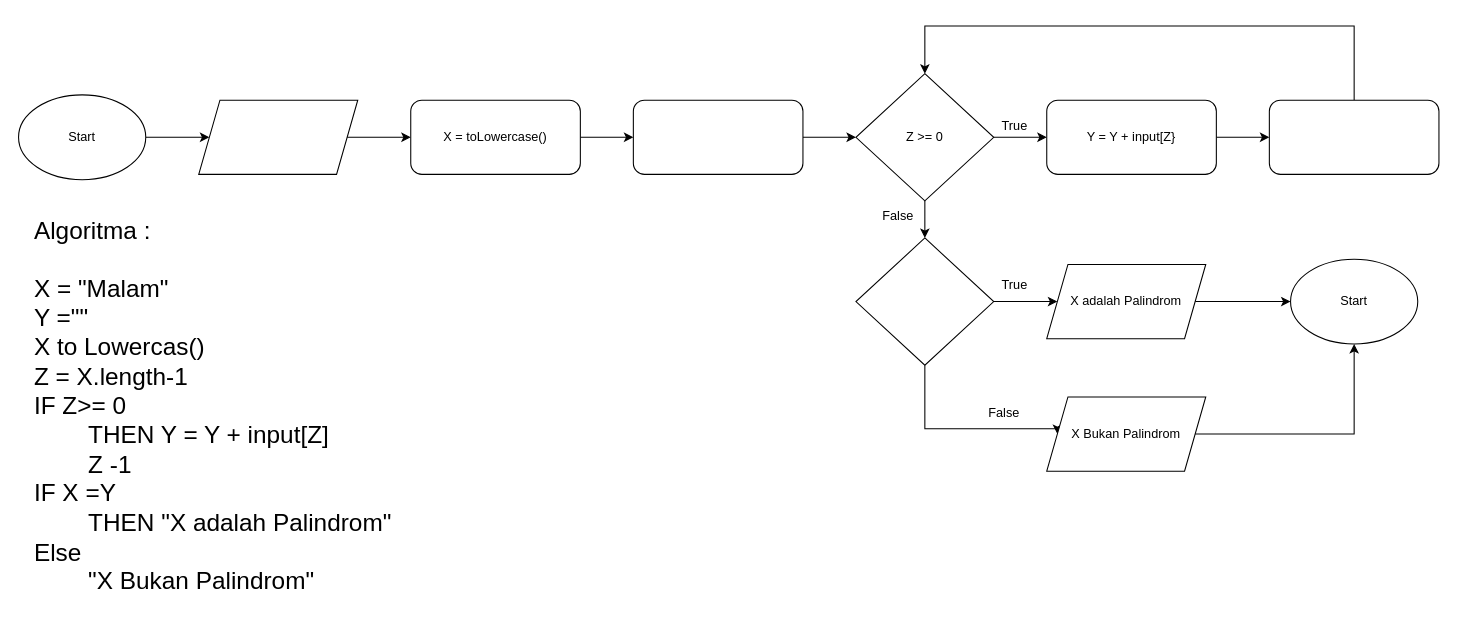
Some shapes in this 1457 by 638 pixel diagram are drawn without their labels. The centre of each missing label's shape, as x and y in pixels:
X = Malam Y = "": pixel 278 136
X = Y: pixel 924 301
Z = x.length -1: pixel 717 136
Z =Z - 1: pixel 1353 136
